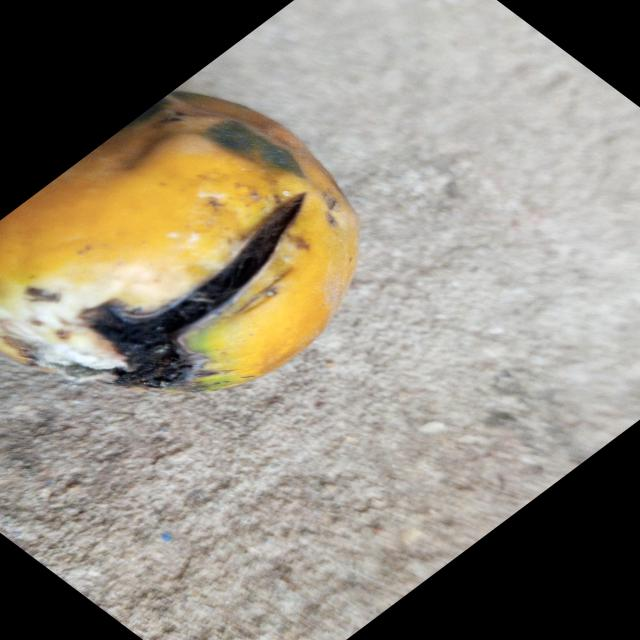damaged: (0, 92, 358, 392)
